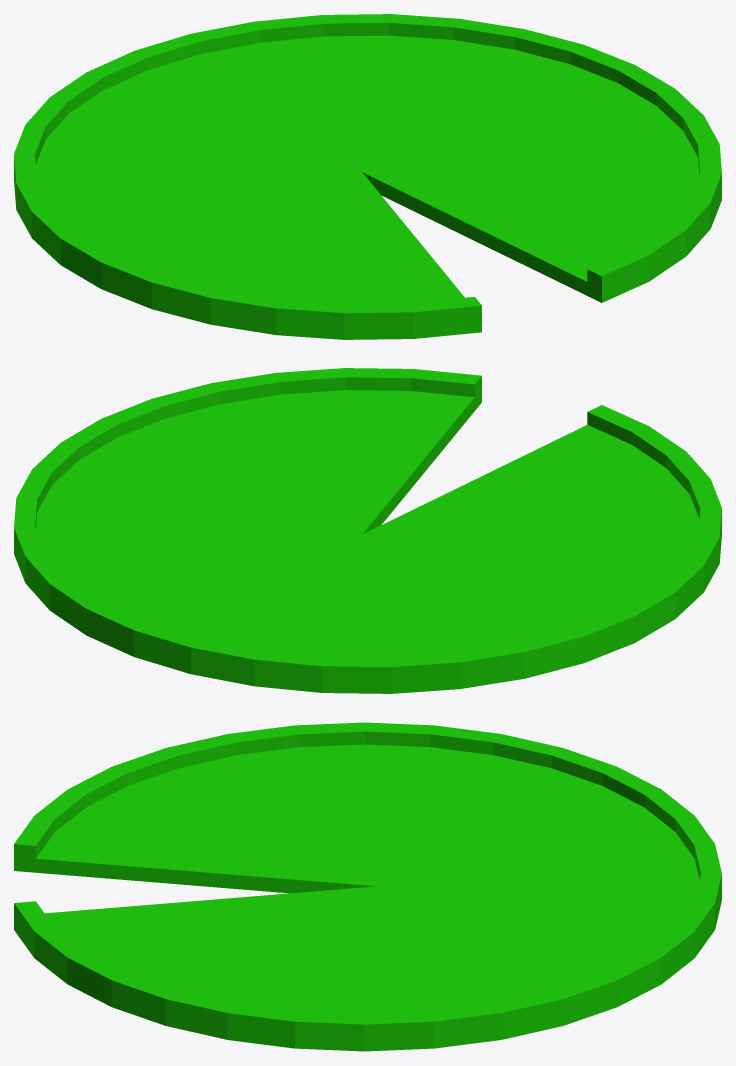
The model's file is Lilly Pad.fbx.
The picture shows the model from 3 angles, top to bottom: view 1: azimuth 30°, elevation 25°; view 2: azimuth 150°, elevation 25°; view 3: azimuth 270°, elevation 25°; orthographic projection.
Visible parts, largest first — view 1: Cylinder; view 2: Cylinder; view 3: Cylinder.
Part boxes in pixels (box(x1,y1,x2,y2)): Cylinder: box(14, 14, 721, 339); Cylinder: box(14, 368, 721, 693); Cylinder: box(14, 722, 721, 1051).
Size of the model in its own units: 213 by 8.84 by 211.
